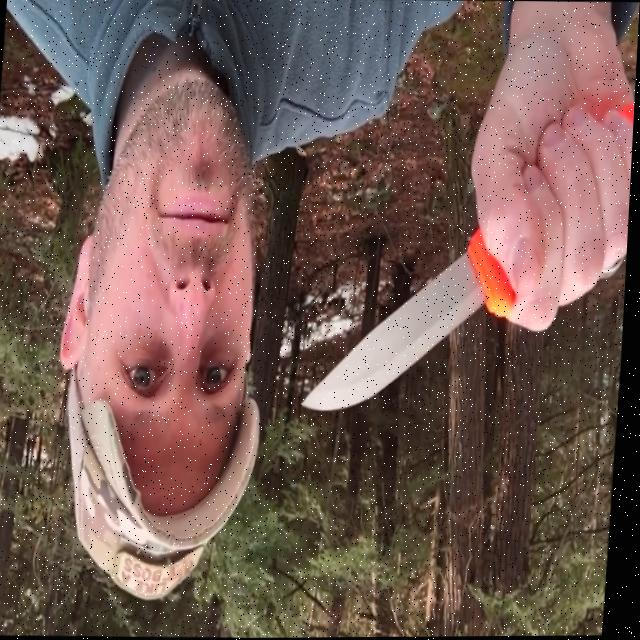knife: (299, 238, 498, 429)
